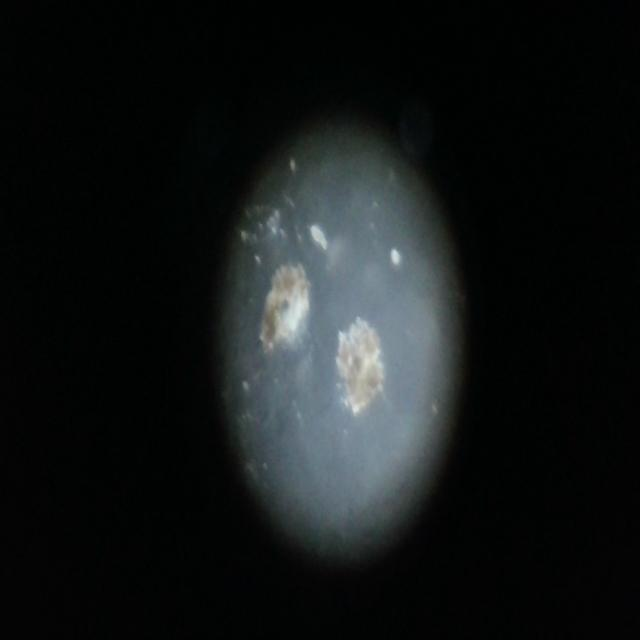alexandrium: (332, 298, 390, 416), (256, 253, 309, 366)
